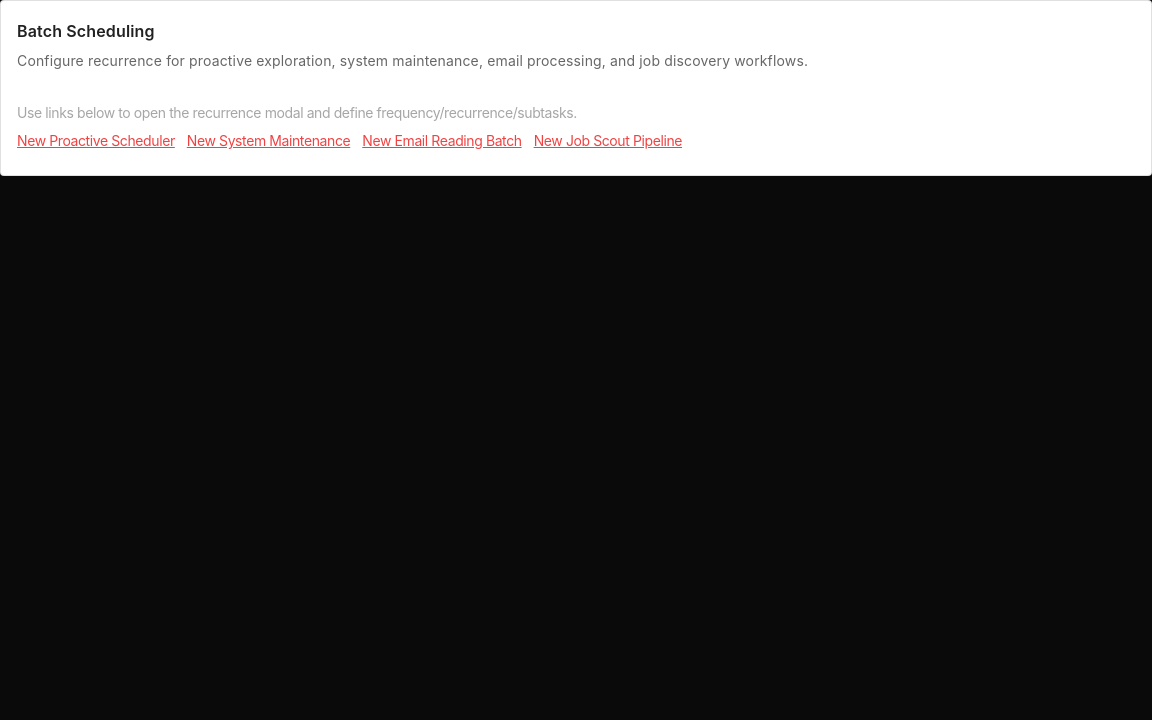
it: SchedulerConfig — interactions › clicking a batch type button opens the modal with OK and Cancel buttons
The image size is (1152, 720).
What coordinates should you click on to do the following:
click the button "New Proactive Scheduler"
I would click on:
 (96, 141)
Its box is [17, 131, 175, 151].
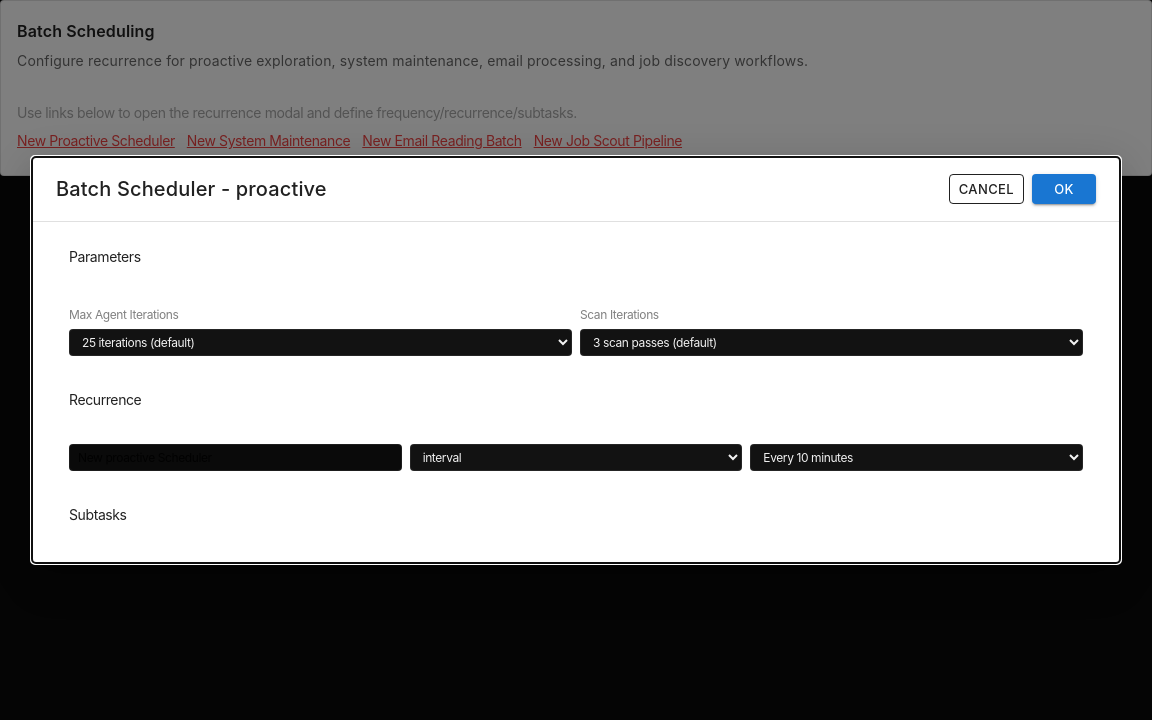
Check: the text "Batch Scheduler - proactive" is shown, box [56, 173, 327, 205]
Check: the button "OK" is shown, box [1032, 174, 1096, 204]
Check: the button "Cancel" is shown, box [949, 174, 1024, 204]
